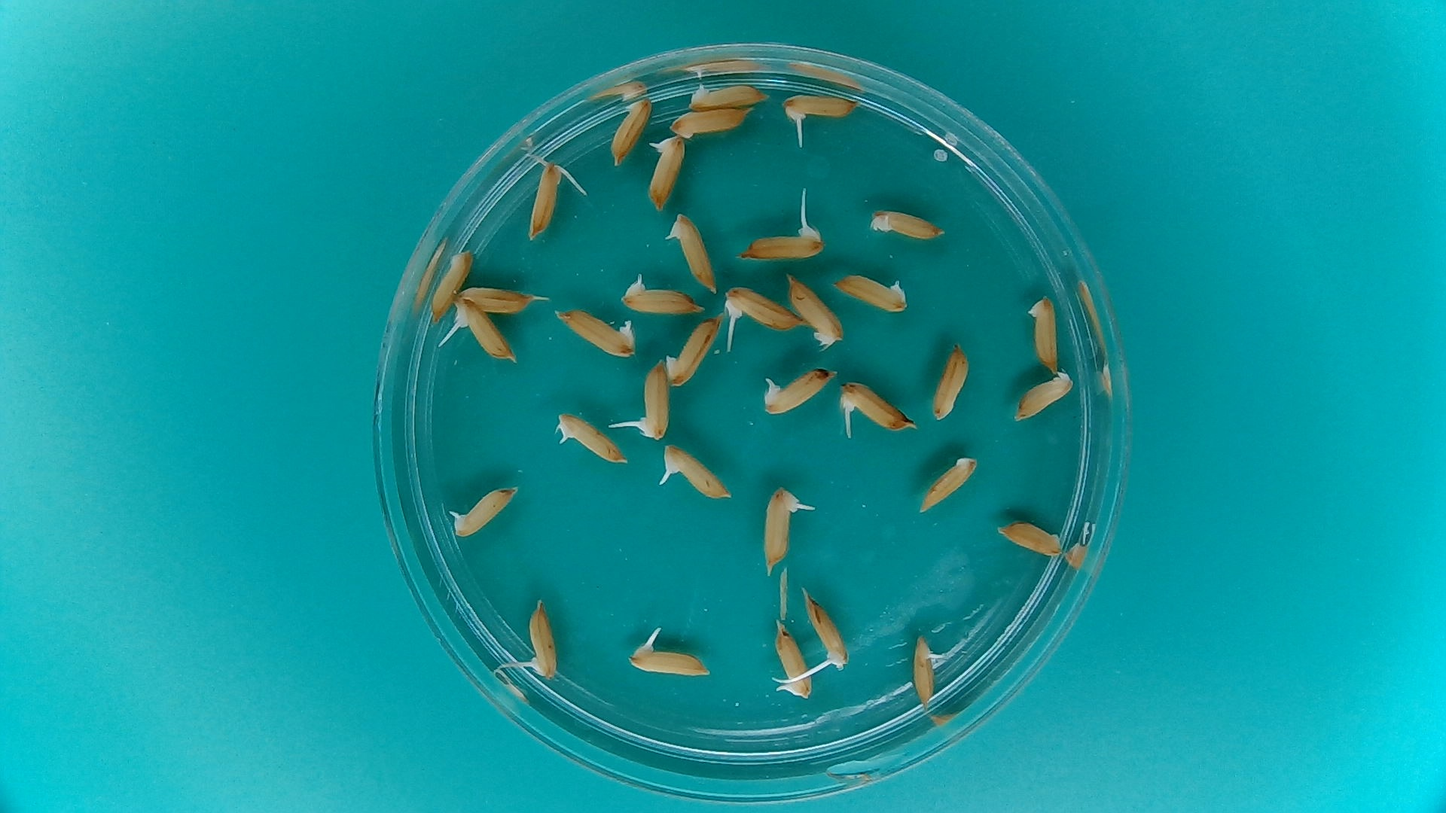no: (784, 272, 846, 349), (665, 311, 725, 390), (917, 452, 981, 515), (930, 337, 975, 423), (830, 269, 914, 313), (1011, 370, 1077, 425), (607, 95, 654, 166), (429, 248, 474, 322), (1024, 291, 1063, 373), (865, 205, 947, 243), (995, 518, 1063, 559), (667, 106, 751, 139), (454, 282, 535, 315), (686, 79, 768, 111)
yes: (756, 481, 812, 576), (835, 376, 919, 437), (556, 306, 639, 360), (447, 297, 515, 362), (657, 445, 735, 501), (553, 411, 629, 467), (759, 364, 836, 416), (453, 482, 520, 541), (667, 212, 718, 289), (618, 271, 705, 316), (725, 282, 806, 330), (645, 132, 687, 215), (630, 356, 670, 443), (772, 622, 815, 702), (738, 224, 824, 260), (808, 598, 850, 668), (528, 163, 566, 239), (627, 644, 703, 679), (782, 90, 857, 125), (527, 606, 560, 681), (909, 634, 939, 707)
